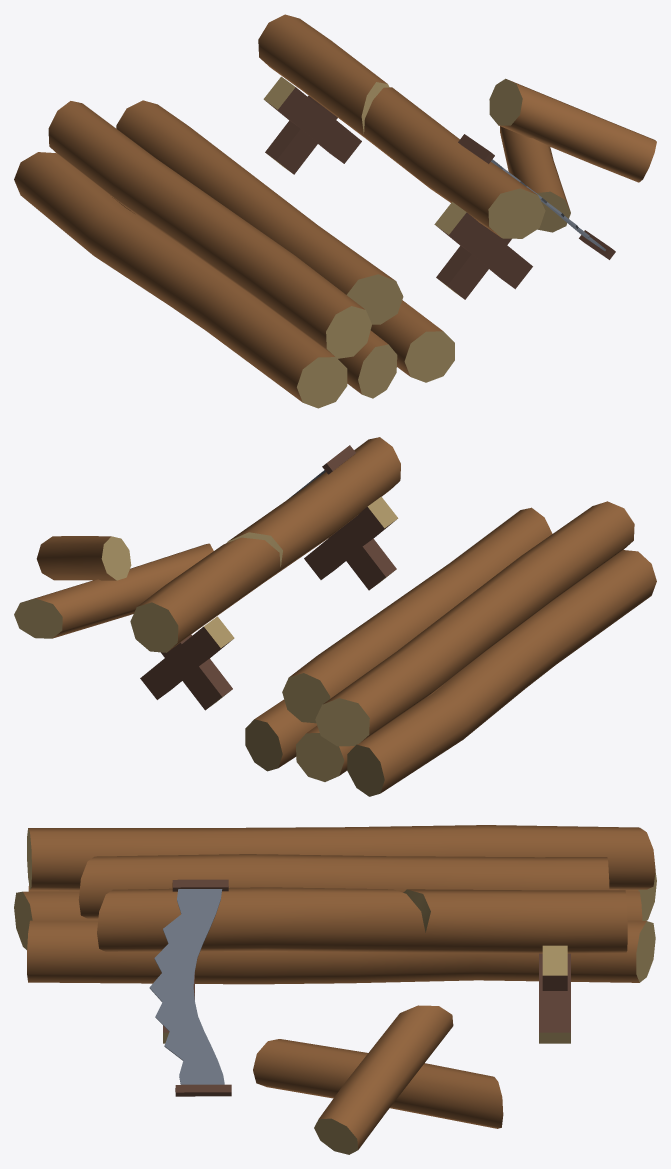
Rendered from Sawmill.glb.
The picture shows the model from 3 angles, top to bottom: view 1: azimuth 30°, elevation 25°; view 2: azimuth 150°, elevation 25°; view 3: azimuth 270°, elevation 25°; orthographic projection. The views are drawn at different scales.
Visible parts, largest first — view 1: Environment_Sawmill; view 2: Environment_Sawmill; view 3: Environment_Sawmill.
Part boxes in pixels (x1,y1,x2,y2): Environment_Sawmill: [14, 14, 656, 408]; Environment_Sawmill: [14, 437, 656, 796]; Environment_Sawmill: [14, 825, 656, 1154].
Size of the model in its own units: 2.07 by 0.5934 by 2.06.
1 material, 1 textured.
